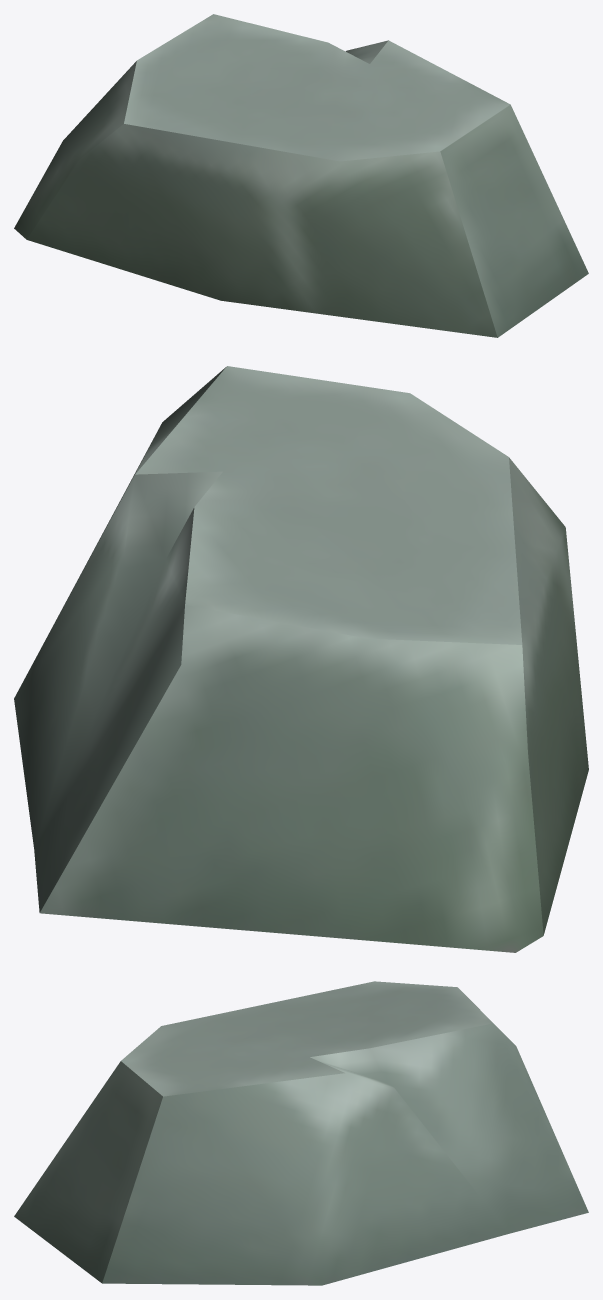
Rendered from field_rocks_ore_001e.fbx.
The picture shows the model from 3 angles, top to bottom: view 1: azimuth 30°, elevation 25°; view 2: azimuth 150°, elevation 25°; view 3: azimuth 270°, elevation 25°; orthographic projection. The views are drawn at different scales.
Parts seen in each view (by area): view 1: field_rocks_ore_001e; view 2: field_rocks_ore_001e; view 3: field_rocks_ore_001e.
Boxes of the visible parts, box(x1,y1,x2,y2) form: field_rocks_ore_001e: box(14, 14, 588, 337); field_rocks_ore_001e: box(14, 366, 588, 952); field_rocks_ore_001e: box(14, 981, 588, 1285).
Bounding box in the file's own units: 36.58 × 14.91 × 45.52.
